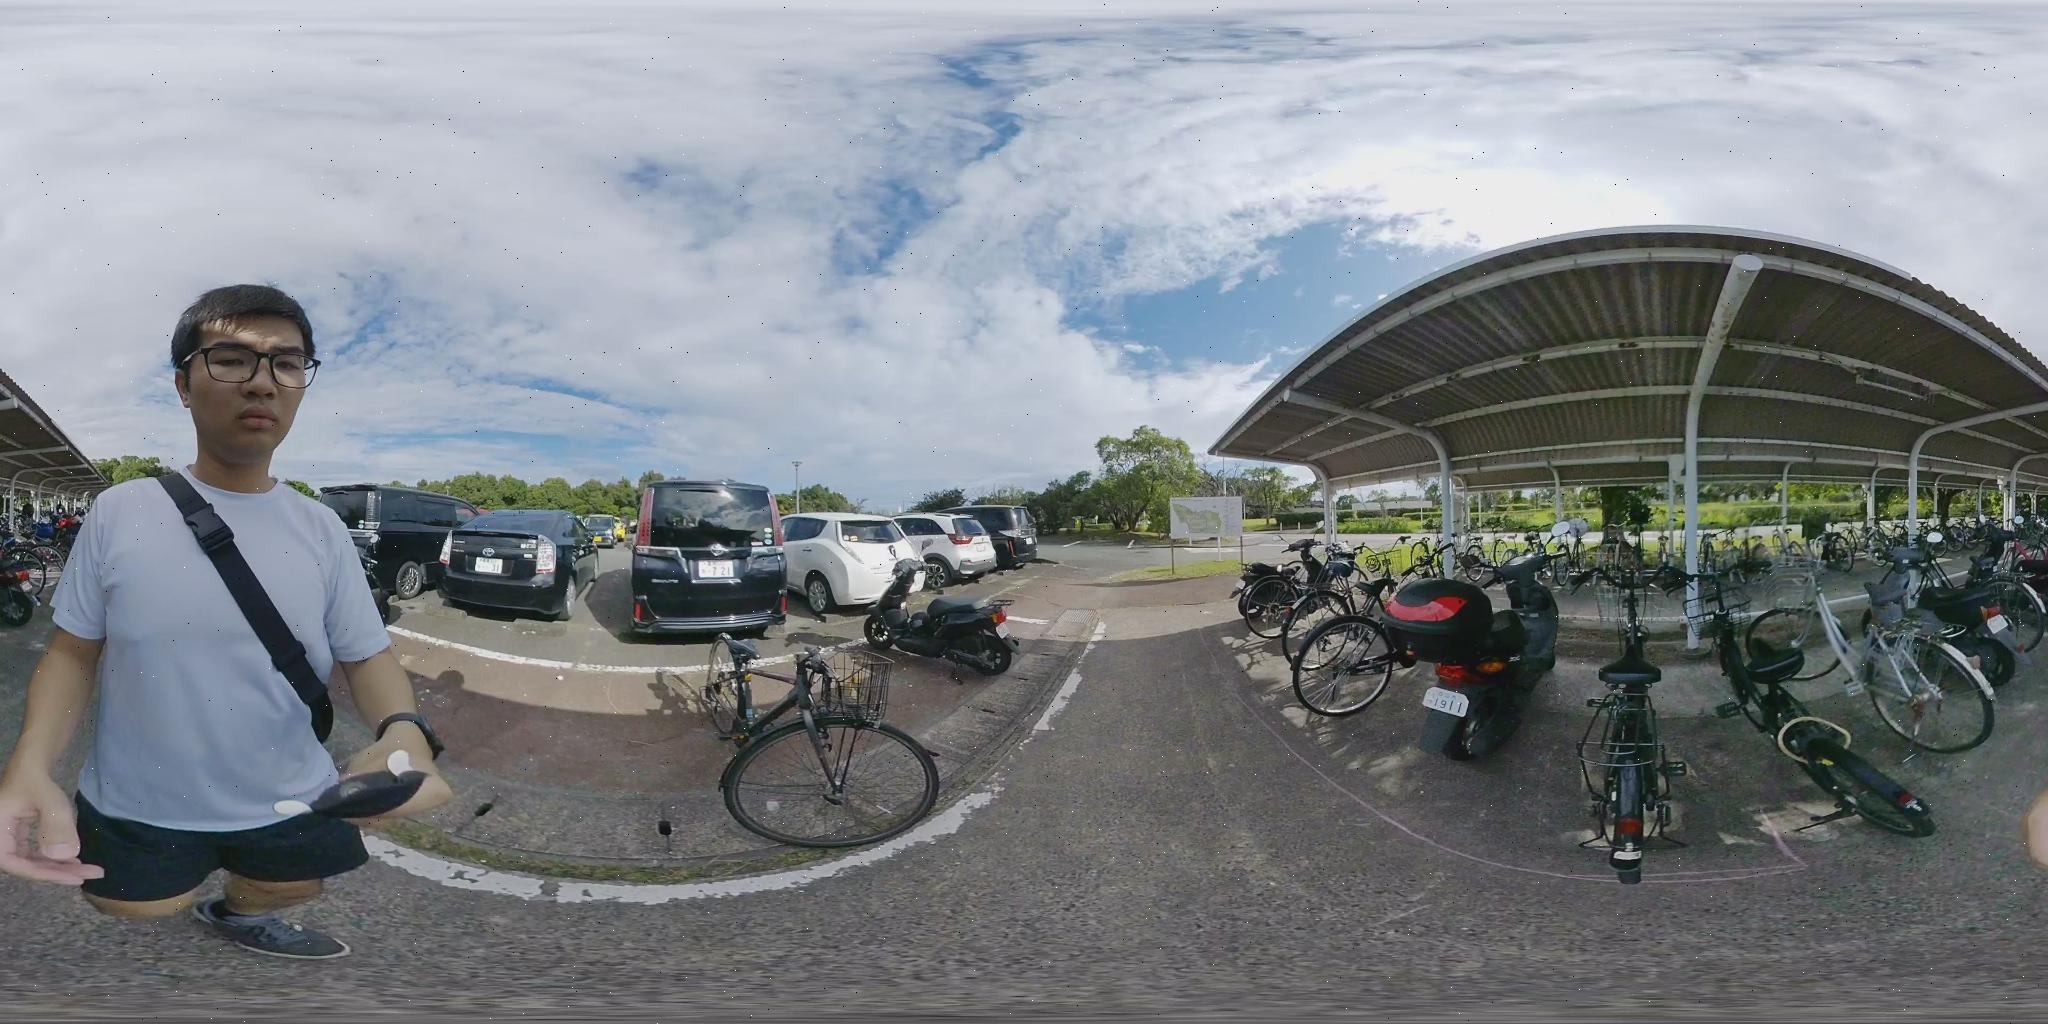car: (632, 485, 792, 633), (784, 509, 1004, 613), (444, 498, 600, 603)
